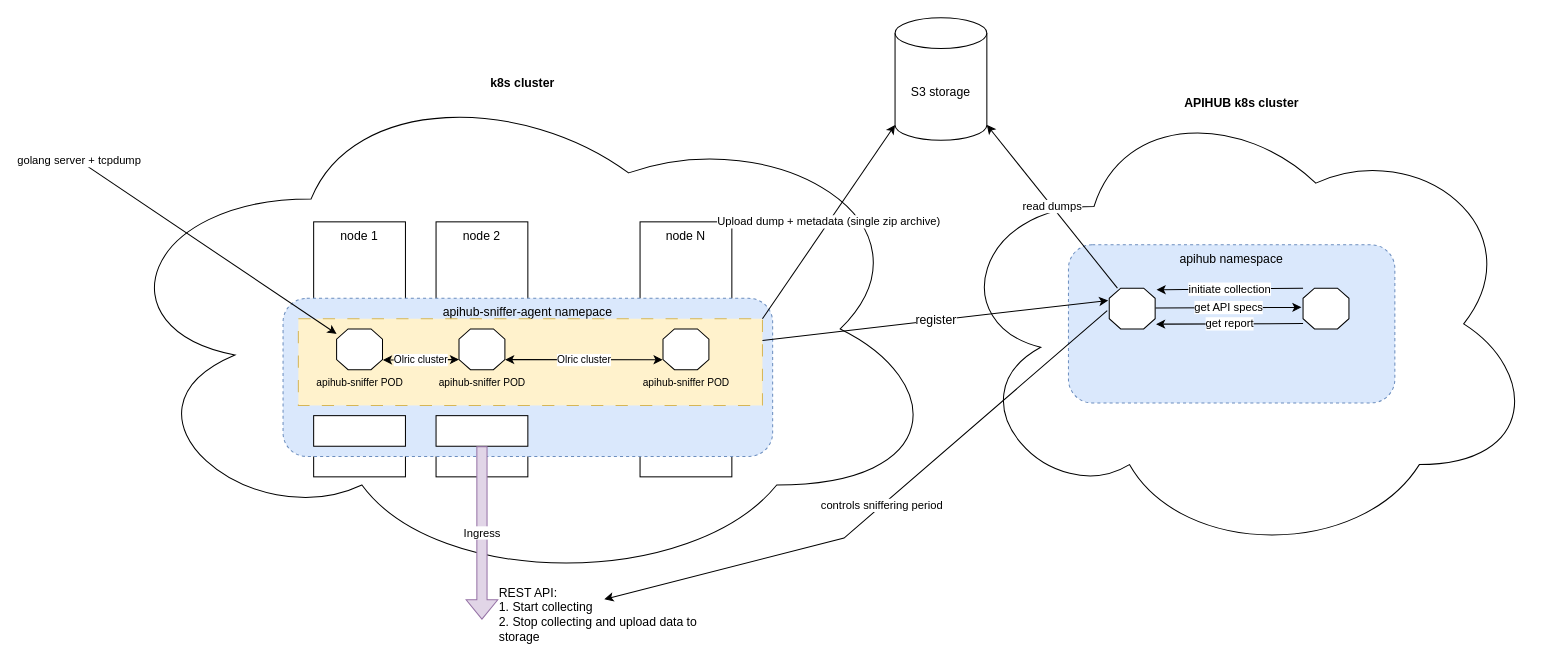
This 1556x662 diagram has some shape labels left out. Each missing label, with the centre of its shape:
apihub-api-usage-analyzer: pixel 1131 308
apihub-frontend apihub-backend: pixel 1325 308
apihub-sniffer-service: pixel 481 430
apihub-sniffer-ui ??: pixel 359 430
DaemonSet: pixel 529 361
